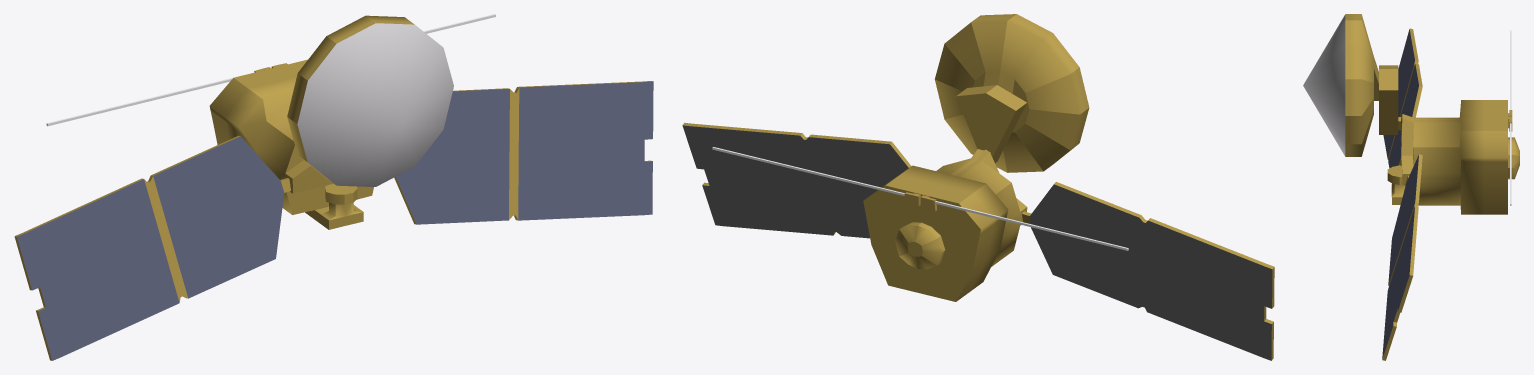
Rendered from mars-reconnaissance-orbiter-mro-b.glb.
The picture shows the model from 3 angles, left to right: view 1: azimuth 30°, elevation 25°; view 2: azimuth 150°, elevation 25°; view 3: azimuth 270°, elevation 25°; orthographic projection. The views are drawn at different scales.
Parts seen in each view (by area): view 1: MRO; view 2: MRO; view 3: MRO.
Part boxes in pixels (box(x1,y1,x2,y2)): MRO: box(14, 14, 653, 360); MRO: box(682, 14, 1274, 360); MRO: box(1303, 14, 1519, 360).
Size of the model in its own units: 9.46 by 4.01 by 3.52.
Materials: 2 (2 with a texture image).
